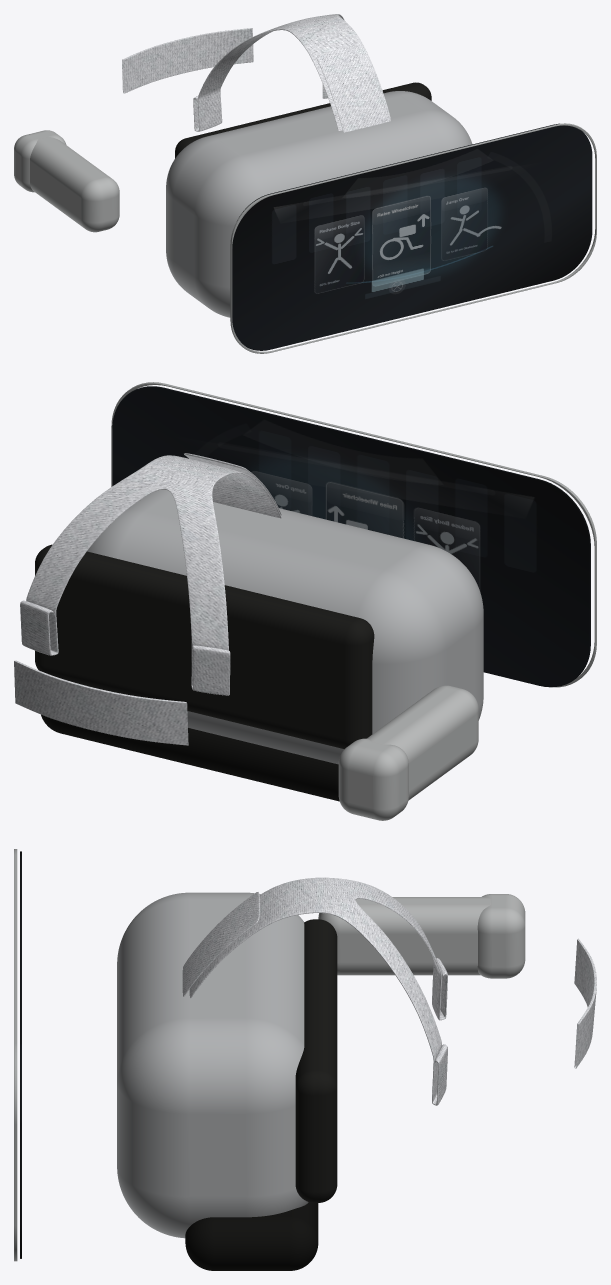
File: Quest3S_A11yway_PBR.glb
3 views of the same model, one above another, from view 1: azimuth 30°, elevation 25°; view 2: azimuth 150°, elevation 25°; view 3: azimuth 270°, elevation 25° (orthographic). The views are drawn at different scales.
Parts seen in each view (by area): view 1: A11yway_UI_Panel, A11ywayReferenceSilverBodyBarrel, A11ywayReferenceLeftSideStrapPod, MQ3S_TopStrap1, MQ3S_BackSmallStrap, MQ3S_TopStrap2, A11yway_Front_Frame, A11ywayReferenceRearBlackBand, A11ywayReferenceLeftStrapEndCap; view 2: A11yway_UI_Panel, A11ywayReferenceSilverBodyBarrel, A11ywayReferenceRearBlackBand, MQ3S_TopStrap1, MQ3S_BackSmallStrap, A11ywayReferenceBlackUnderside, A11ywayReferenceLeftSideStrapPod, A11ywayReferenceLeftStrapEndCap, A11yway_Front_Frame; view 3: A11ywayReferenceSilverBodyBarrel, A11ywayReferenceRearBlackBand, MQ3S_TopStrap1, A11ywayReferenceLeftSideStrapPod, A11ywayReferenceBlackUnderside, A11ywayReferenceLeftStrapEndCap, MQ3S_TopStrap2, MQ3S_BackSmallStrap, A11yway_Front_Frame, A11yway_UI_Panel.
Boxes of the visible parts, x1,y1,x2,y2 form: A11yway_UI_Panel: (232,123,592,350); A11ywayReferenceSilverBodyBarrel: (166,91,472,317); A11ywayReferenceLeftSideStrapPod: (30,136,119,232); MQ3S_TopStrap1: (193,14,390,131); MQ3S_BackSmallStrap: (122,28,253,93); MQ3S_TopStrap2: (317,45,390,132); A11yway_Front_Frame: (230,123,596,353); A11ywayReferenceRearBlackBand: (175,82,431,158); A11ywayReferenceLeftStrapEndCap: (14,130,66,192); A11yway_UI_Panel: (112,386,590,687); A11ywayReferenceSilverBodyBarrel: (87,489,483,764); A11ywayReferenceRearBlackBand: (35,544,374,749); MQ3S_TopStrap1: (20,455,281,695); MQ3S_BackSmallStrap: (14,660,188,745); A11ywayReferenceBlackUnderside: (41,714,339,801); A11ywayReferenceLeftSideStrapPod: (367,685,478,800); A11ywayReferenceLeftStrapEndCap: (338,738,408,820); A11yway_Front_Frame: (111,382,596,687); A11ywayReferenceSilverBodyBarrel: (117,892,308,1238); A11ywayReferenceRearBlackBand: (295,919,337,1202); MQ3S_TopStrap1: (189,877,447,1105); A11ywayReferenceLeftSideStrapPod: (318,897,490,975); A11ywayReferenceBlackUnderside: (185,1202,318,1270); A11ywayReferenceLeftStrapEndCap: (477,894,525,978); MQ3S_TopStrap2: (182,892,259,996); MQ3S_BackSmallStrap: (574,938,596,1068); A11yway_Front_Frame: (14,849,17,1261); A11yway_UI_Panel: (20,851,21,1258).
Bounding box in the file's own units: 1.63 × 0.8994 × 1.54.
7 materials, 2 textured.
